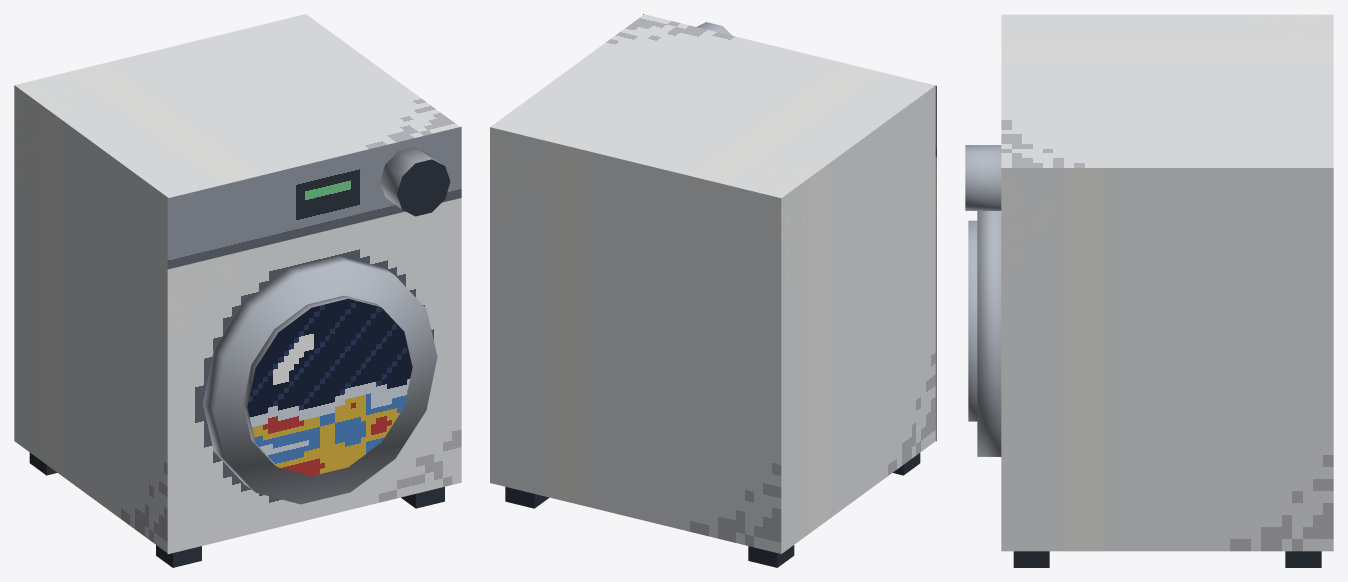
The model's file is home-washingMachine.glb.
3 renders of one model, left to right at view 1: azimuth 30°, elevation 25°; view 2: azimuth 150°, elevation 25°; view 3: azimuth 270°, elevation 25°, orthographic. The views are drawn at different scales.
Visible parts, largest first — view 1: home.washingMachine; view 2: home.washingMachine; view 3: home.washingMachine.
Boxes of the visible parts, <box> form: home.washingMachine: <box>14,14,461,567</box>; home.washingMachine: <box>490,14,936,567</box>; home.washingMachine: <box>965,14,1333,567</box>.
Size of the model in its own units: 1.07 by 1.31 by 1.08.
Materials: 6 (5 with a texture image).
